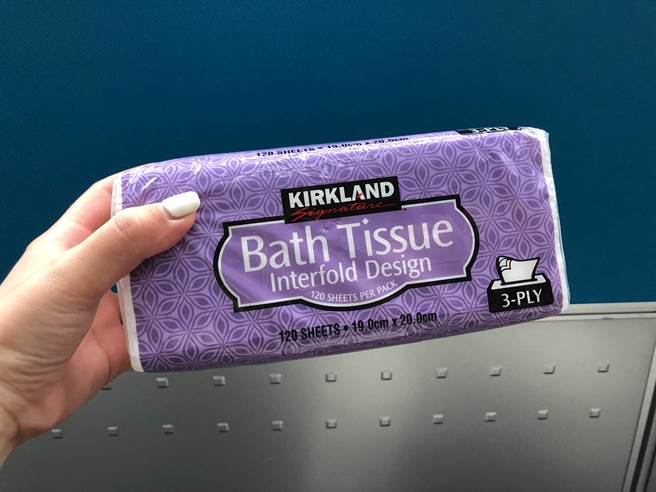tissue: (111, 126, 577, 387)
